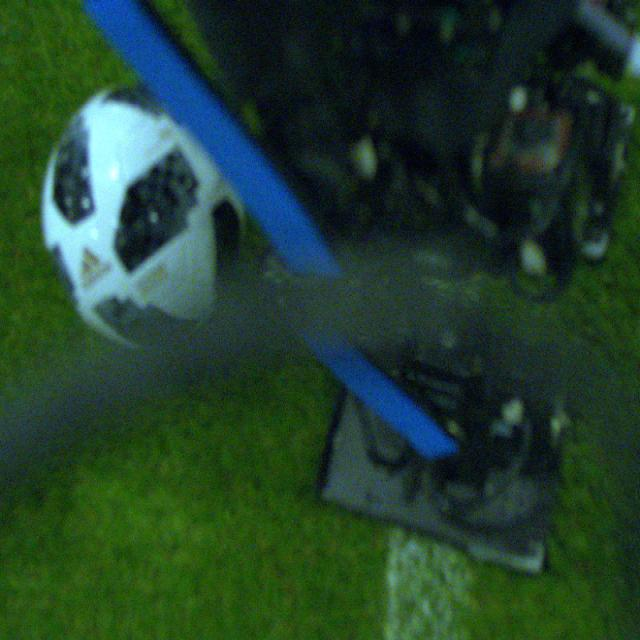ball: (39, 78, 259, 350)
